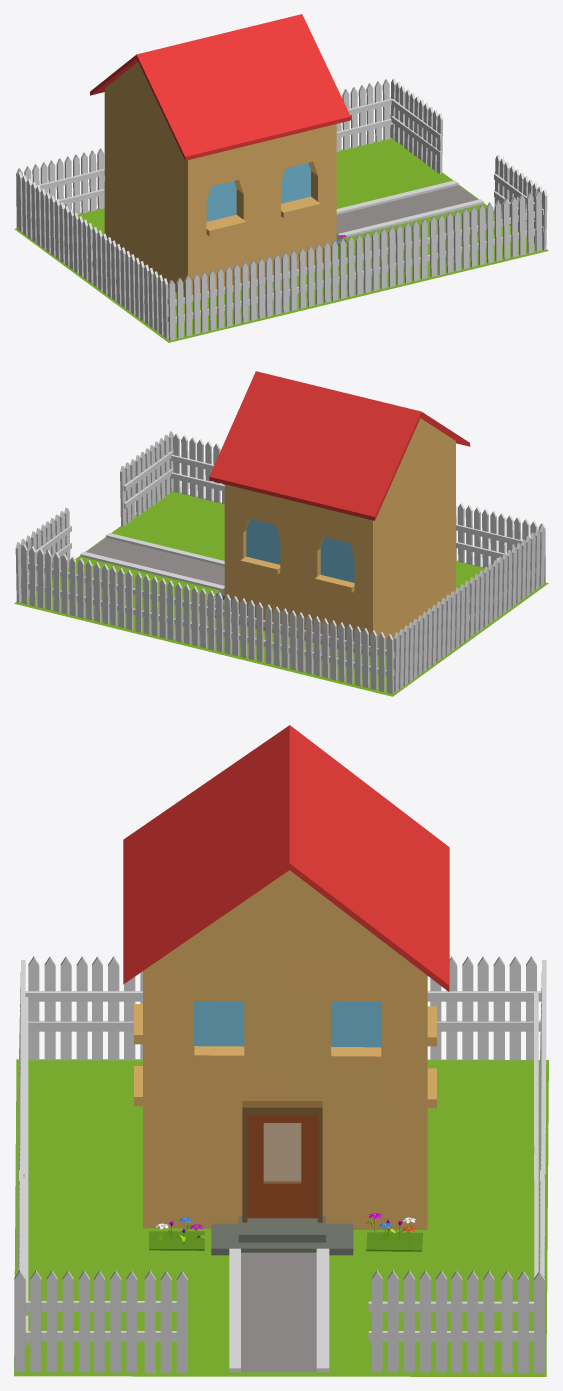
File: DOM.fbx
3 views of the same model, one above another, from view 1: azimuth 30°, elevation 25°; view 2: azimuth 150°, elevation 25°; view 3: azimuth 270°, elevation 25° (orthographic). The views are drawn at different scales.
Visible parts, largest first — view 1: Cube, Cube.001, Cube.002, Plane.148, Cube.015, Plane.149, Cube.005, Cube.006, Cube.008, Cube.007, Plane.119, Plane.095 (+44 smaller); view 2: Cube, Cube.001, Cube.002, Cube.015, Plane.148, Plane.149, Cube.008, Cube.007, Cube.006, Cube.005, Plane.032, Plane.047 (+44 smaller); view 3: Cube.002, Cube, Cube.001, Plane.148, Cube.017, Cube.015, Plane.149, Plane.147, Cube.014, Cube.003, Cube.004, Cube.016 (+38 smaller).
Boxes of the visible parts, x1,y1,x2,y2 form: Cube: (104, 62, 336, 296); Cube.001: (90, 14, 350, 160); Cube.002: (14, 137, 548, 342); Plane.148: (336, 185, 477, 233); Cube.015: (206, 163, 310, 221); Plane.149: (336, 180, 483, 237); Cube.005: (36, 98, 392, 190); Cube.006: (58, 118, 393, 204); Cube.008: (175, 211, 534, 305); Cube.007: (175, 229, 535, 322); Plane.119: (478, 204, 485, 265); Plane.095: (168, 279, 175, 340); Cube: (224, 418, 455, 656); Cube.001: (209, 371, 470, 520); Cube.002: (14, 491, 548, 696); Cube.015: (246, 519, 354, 582); Plane.148: (86, 537, 224, 585); Plane.149: (80, 533, 224, 590); Cube.008: (170, 455, 522, 545); Cube.007: (170, 472, 507, 558); Cube.006: (21, 582, 386, 676); Cube.005: (21, 562, 386, 656); Plane.032: (135, 572, 142, 632); Plane.047: (256, 602, 263, 662); Cube.002: (14, 1059, 548, 1376); Cube: (134, 870, 436, 1229); Cube.001: (123, 725, 449, 991); Plane.148: (241, 1252, 316, 1372); Cube.017: (247, 1115, 317, 1218); Cube.015: (194, 1001, 380, 1047); Plane.149: (229, 1248, 329, 1372); Plane.147: (211, 1223, 353, 1255); Cube.014: (242, 1101, 322, 1222); Cube.003: (25, 991, 541, 1001); Cube.004: (28, 1020, 540, 1031); Cube.016: (263, 1123, 301, 1181).
Size of the model in its own units: 384 by 212 by 273.
